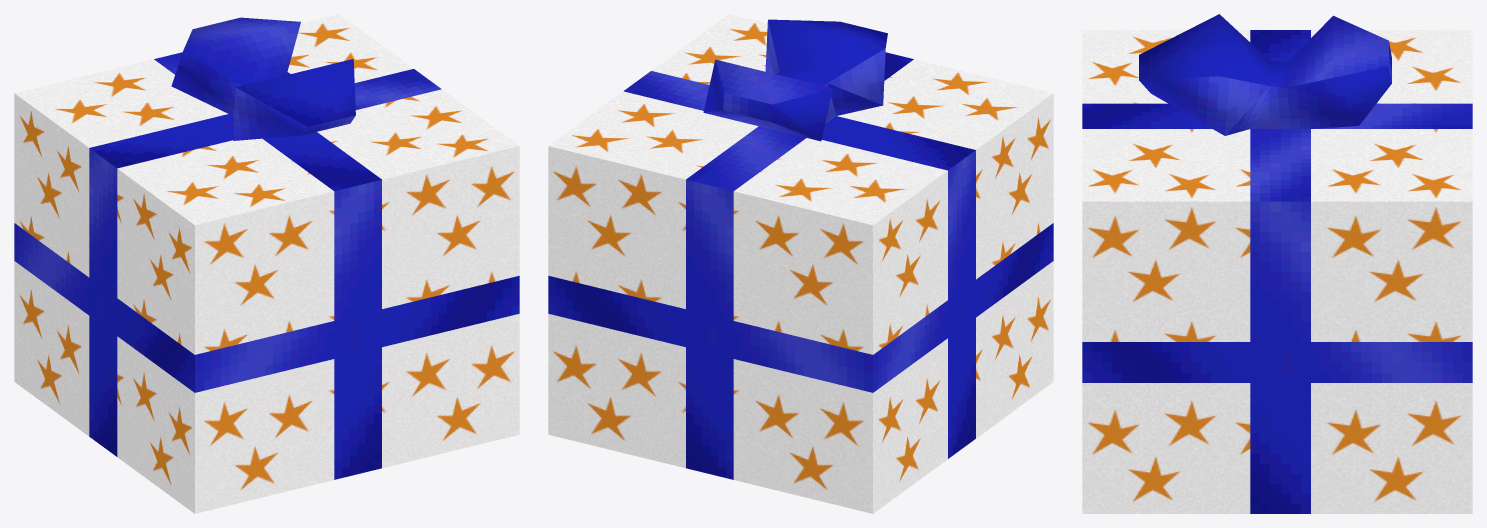
The model's file is presentlg.glb.
3 views of the same model, side by side, from view 1: azimuth 30°, elevation 25°; view 2: azimuth 150°, elevation 25°; view 3: azimuth 270°, elevation 25° (orthographic). The views are drawn at different scales.
Visible parts, largest first — view 1: presentlg; view 2: presentlg; view 3: presentlg.
Boxes of the visible parts, x1,y1,x2,y2 form: presentlg: (14,14,519,513); presentlg: (548,14,1053,513); presentlg: (1082,14,1472,513).
Bounding box in the file's own units: 38.44 × 40.1 × 37.
Materials: 2 (2 with a texture image).
